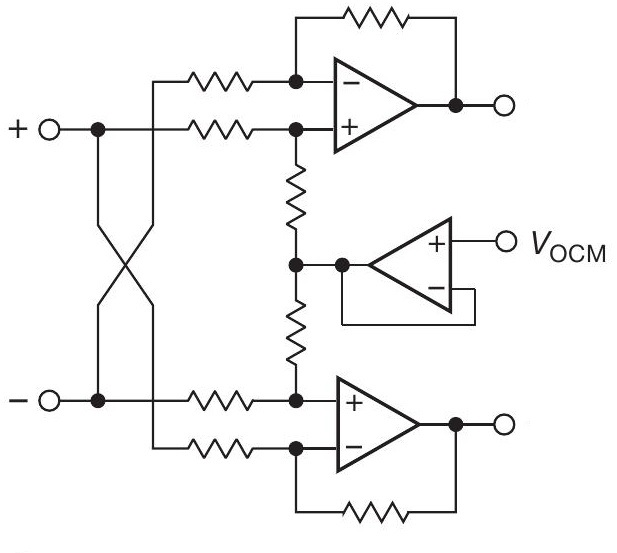op: (327, 369, 426, 480), (326, 51, 424, 160), (363, 212, 460, 317)
resistor: (334, 494, 416, 529), (333, 2, 417, 34), (178, 385, 259, 418), (181, 432, 261, 465), (179, 112, 259, 145), (179, 65, 259, 98), (280, 157, 312, 236), (280, 293, 312, 372)
